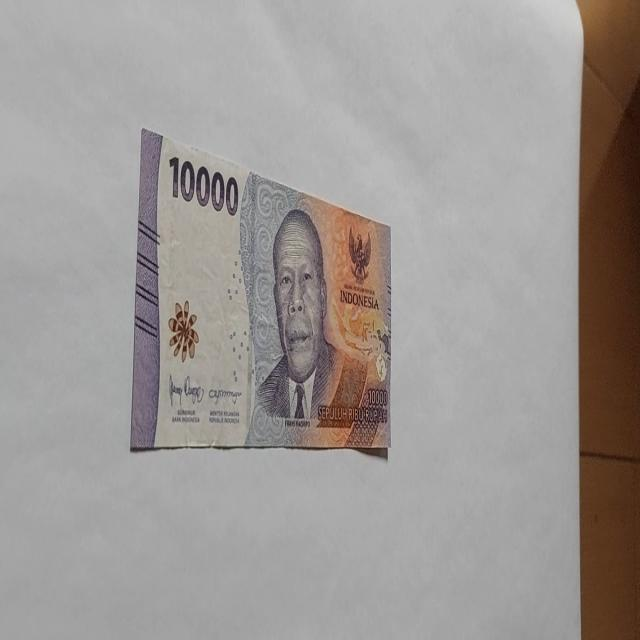sepuluh ribu rupiah: (129, 124, 393, 456), (244, 204, 374, 446)
